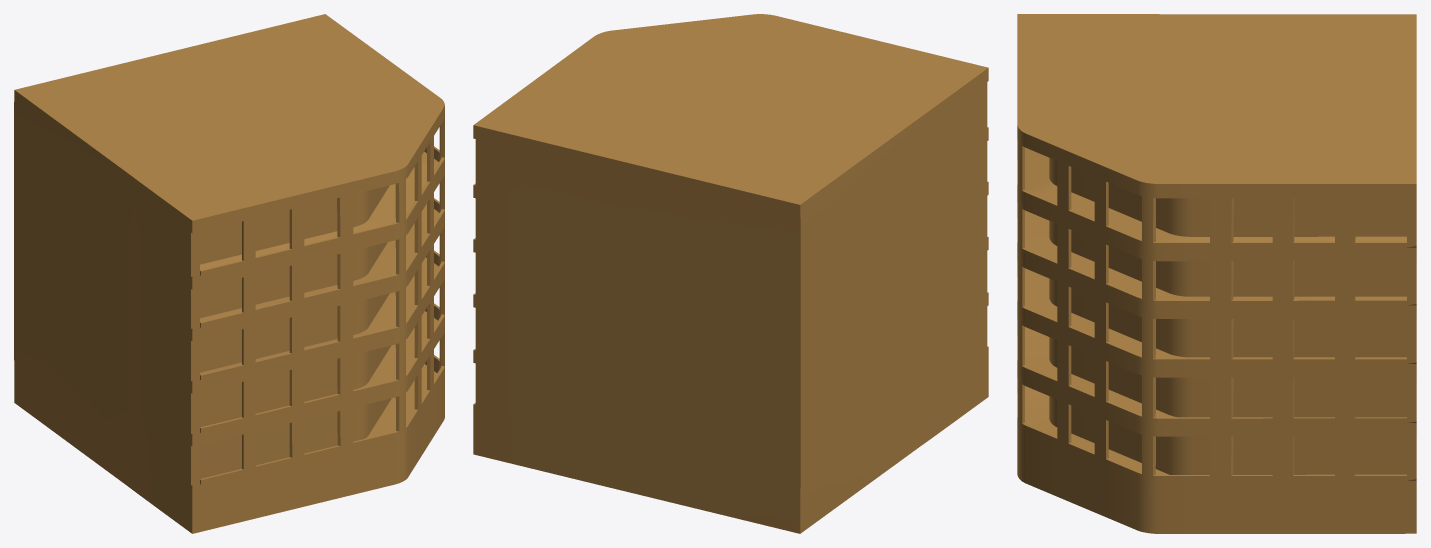
File: building.fbx
3 views of the same model, side by side, from view 1: azimuth 30°, elevation 25°; view 2: azimuth 150°, elevation 25°; view 3: azimuth 270°, elevation 25° (orthographic). The views are drawn at different scales.
Parts seen in each view (by area): view 1: Cube.001; view 2: Cube.001; view 3: Cube.001.
Boxes of the visible parts, x1,y1,x2,y2 form: Cube.001: (14,14,444,533); Cube.001: (473,14,988,533); Cube.001: (1017,14,1416,533).
Size of the model in its own units: 625 by 600 by 620.
